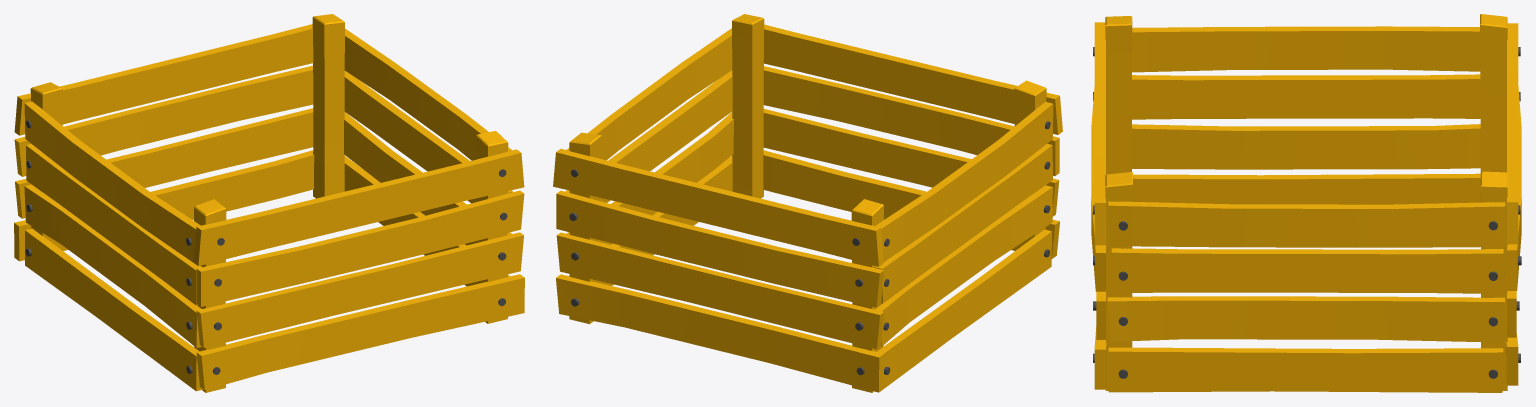
Rendered from border_decoration_outmost.fbx.
3 renders of one model, left to right at view 1: azimuth 30°, elevation 25°; view 2: azimuth 150°, elevation 25°; view 3: azimuth 270°, elevation 25°, orthographic. The views are drawn at different scales.
Parts seen in each view (by area): view 1: FenceSide4, FenceSide, pCube251, bolt16; view 2: FenceSide, FenceSide4, pCube251, bolt16; view 3: FenceSide, FenceSide4, pCube251, bolt16.
Part boxes in pixels (<box>): FenceSide4: <box>24,101,524,391</box>; FenceSide: <box>14,24,512,286</box>; pCube251: <box>30,14,508,392</box>; bolt16: <box>25,120,507,374</box>; FenceSide: <box>553,28,884,392</box>; FenceSide4: <box>763,24,1062,388</box>; pCube251: <box>569,14,1046,392</box>; bolt16: <box>569,121,1050,375</box>; FenceSide: <box>1107,23,1521,392</box>; FenceSide4: <box>1091,22,1480,389</box>; pCube251: <box>1105,14,1507,390</box>; bolt16: <box>1093,47,1521,378</box>.
Size of the model in its own units: 98 by 51.86 by 97.08.
